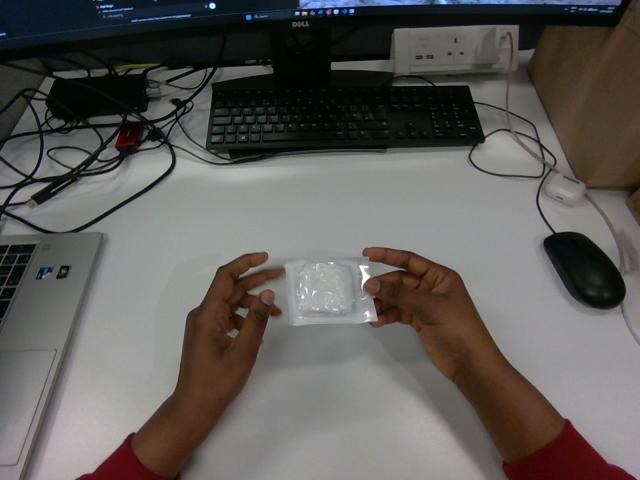gauze: (285, 257, 376, 324)
